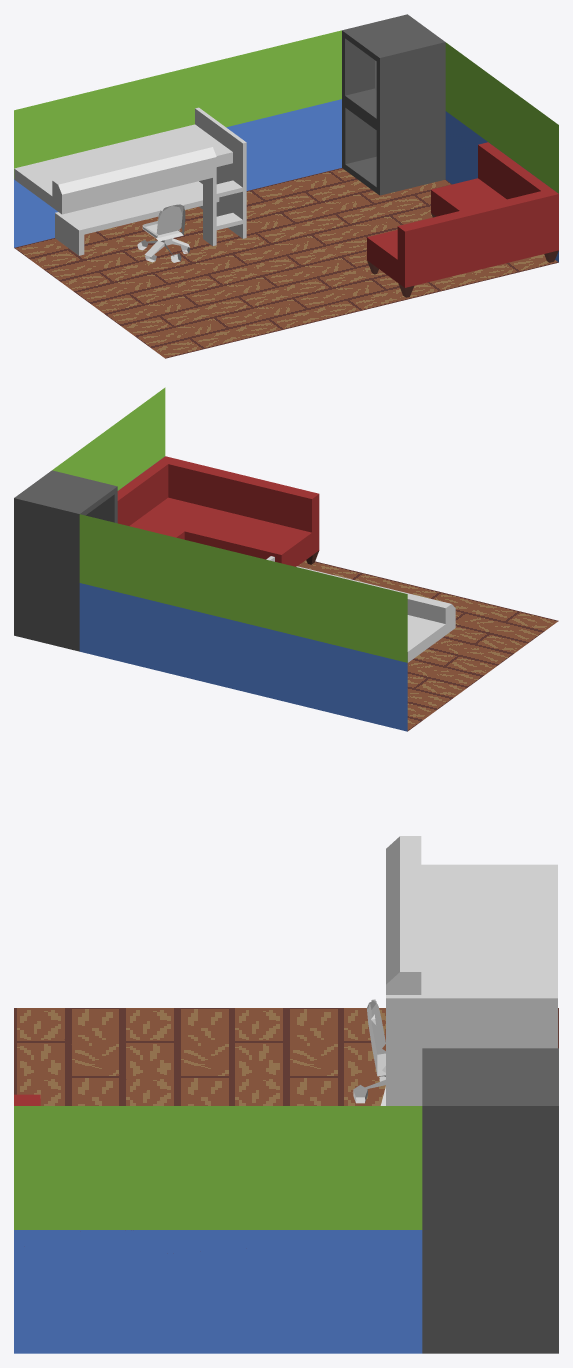
File: room.glb
3 renders of one model, top to bottom at view 1: azimuth 30°, elevation 25°; view 2: azimuth 150°, elevation 25°; view 3: azimuth 270°, elevation 25°, orthographic. The views are drawn at different scales.
Visible parts, largest first — view 1: Floor, Plane.011, Cube, Cube.002, Cube.001, Plane.012, Cylinder; view 2: Plane.011, Cube.001, Cube.002, Floor, Plane.012, Cube; view 3: Plane.012, Cube.002, Floor, Cube, Cylinder.
Part boxes in pixels (x1=…): Floor: x1=14, y1=168, x2=558, y2=358; Plane.011: x1=14, y1=30, x2=341, y2=247; Cube: x1=14, y1=107, x2=246, y2=255; Cube.002: x1=342, y1=14, x2=445, y2=195; Cube.001: x1=367, y1=142, x2=558, y2=297; Plane.012: x1=445, y1=42, x2=558, y2=262; Cylinder: x1=137, y1=204, x2=190, y2=262; Plane.011: x1=79, y1=514, x2=407, y2=731; Cube.001: x1=117, y1=456, x2=319, y2=566; Cube.002: x1=14, y1=470, x2=117, y2=651; Floor: x1=298, y1=560, x2=558, y2=731; Plane.012: x1=52, y1=387, x2=165, y2=490; Cube: x1=266, y1=556, x2=455, y2=662; Plane.012: x1=14, y1=1106, x2=422, y2=1353; Cube.002: x1=422, y1=1048, x2=558, y2=1353; Floor: x1=14, y1=1008, x2=558, y2=1105; Cube: x1=386, y1=836, x2=557, y2=1105; Cylinder: x1=352, y1=999, x2=385, y2=1105.
Size of the model in its own units: 11.98 by 4 by 7.98.
4 materials, 4 textured.
